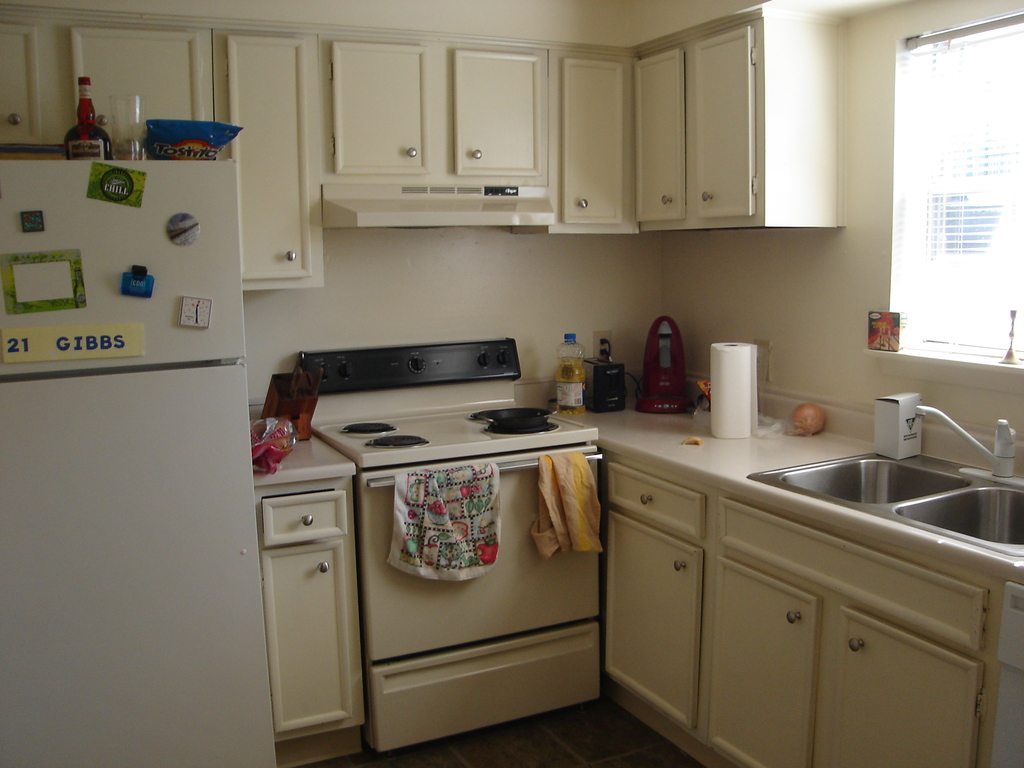cabinet door: (734, 510, 978, 620), (712, 564, 814, 768), (233, 46, 316, 276), (844, 626, 963, 768), (609, 527, 703, 701), (442, 48, 550, 181), (84, 31, 205, 144), (326, 47, 433, 172), (269, 551, 347, 713), (557, 62, 627, 226), (687, 44, 751, 211), (633, 54, 685, 222), (622, 466, 695, 528), (260, 494, 343, 541)
handle: (372, 466, 596, 484), (89, 358, 214, 386), (457, 143, 491, 169), (398, 138, 423, 167), (279, 243, 302, 273), (846, 631, 867, 660), (669, 553, 690, 580), (698, 183, 718, 209), (635, 489, 654, 513), (658, 189, 674, 217), (577, 195, 594, 219), (315, 553, 333, 575), (787, 608, 803, 629), (303, 510, 315, 528)
refrigerator door: (8, 374, 246, 755), (0, 158, 252, 354)
